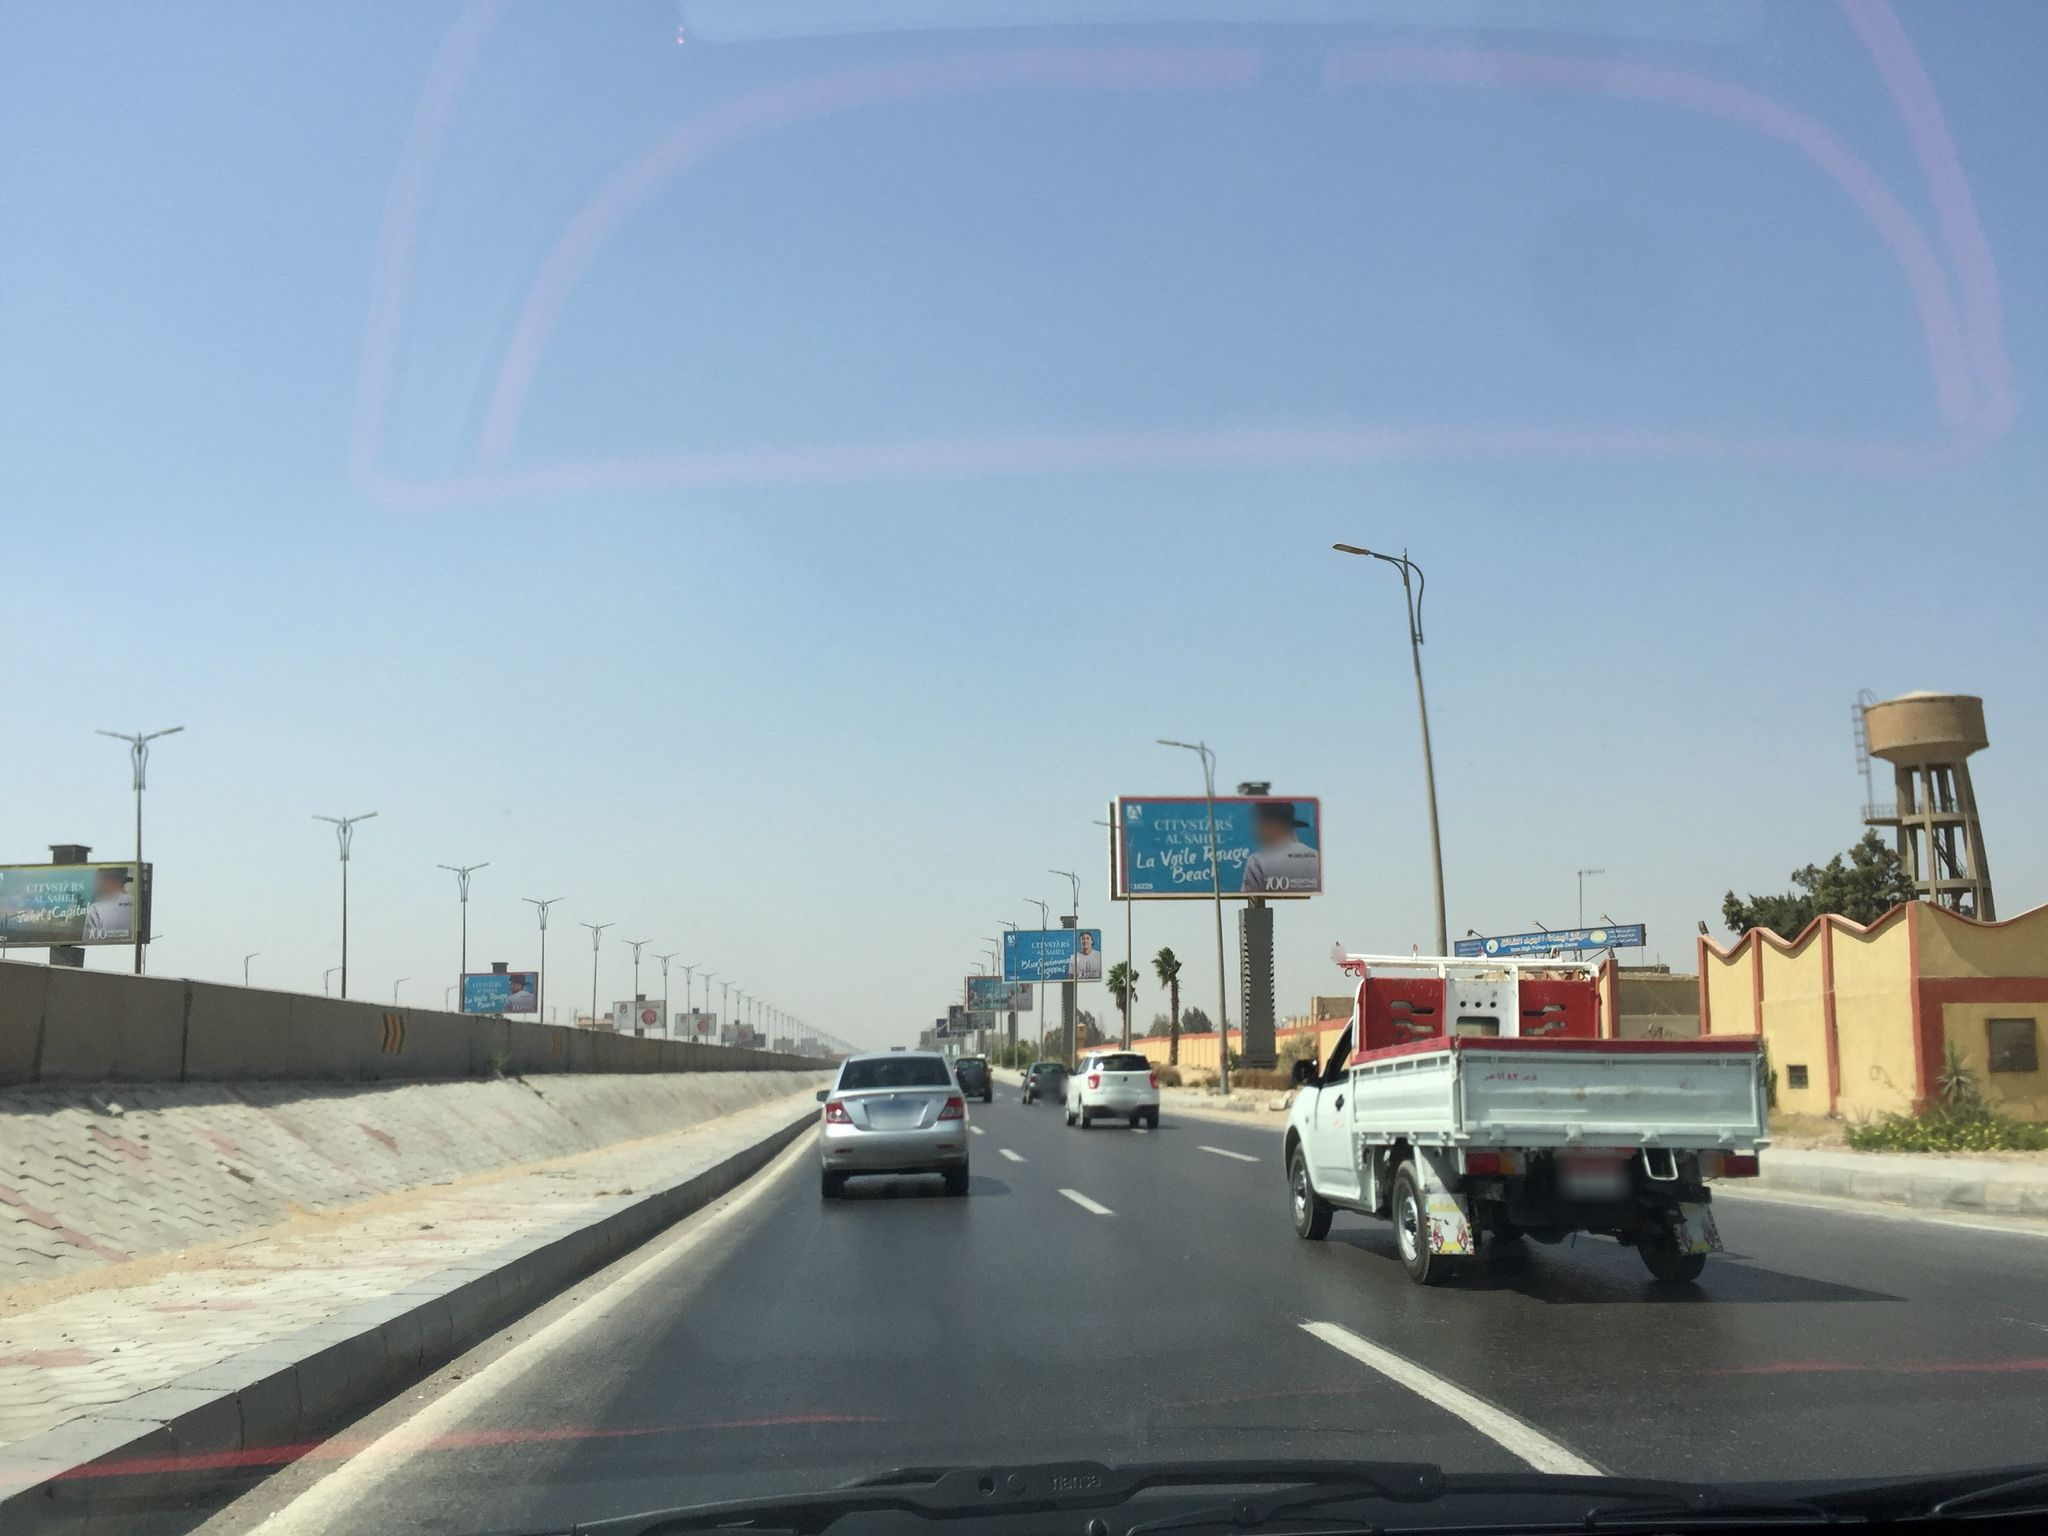car: (816, 1049, 976, 1194), (1064, 1049, 1159, 1129), (1018, 1058, 1072, 1104), (951, 1055, 993, 1104)
truck: (1280, 945, 1772, 1289)
